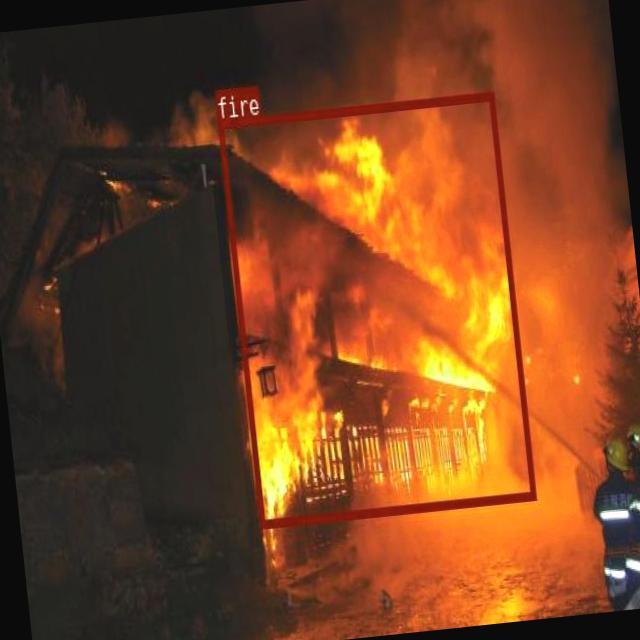fire: (216, 90, 535, 526)
